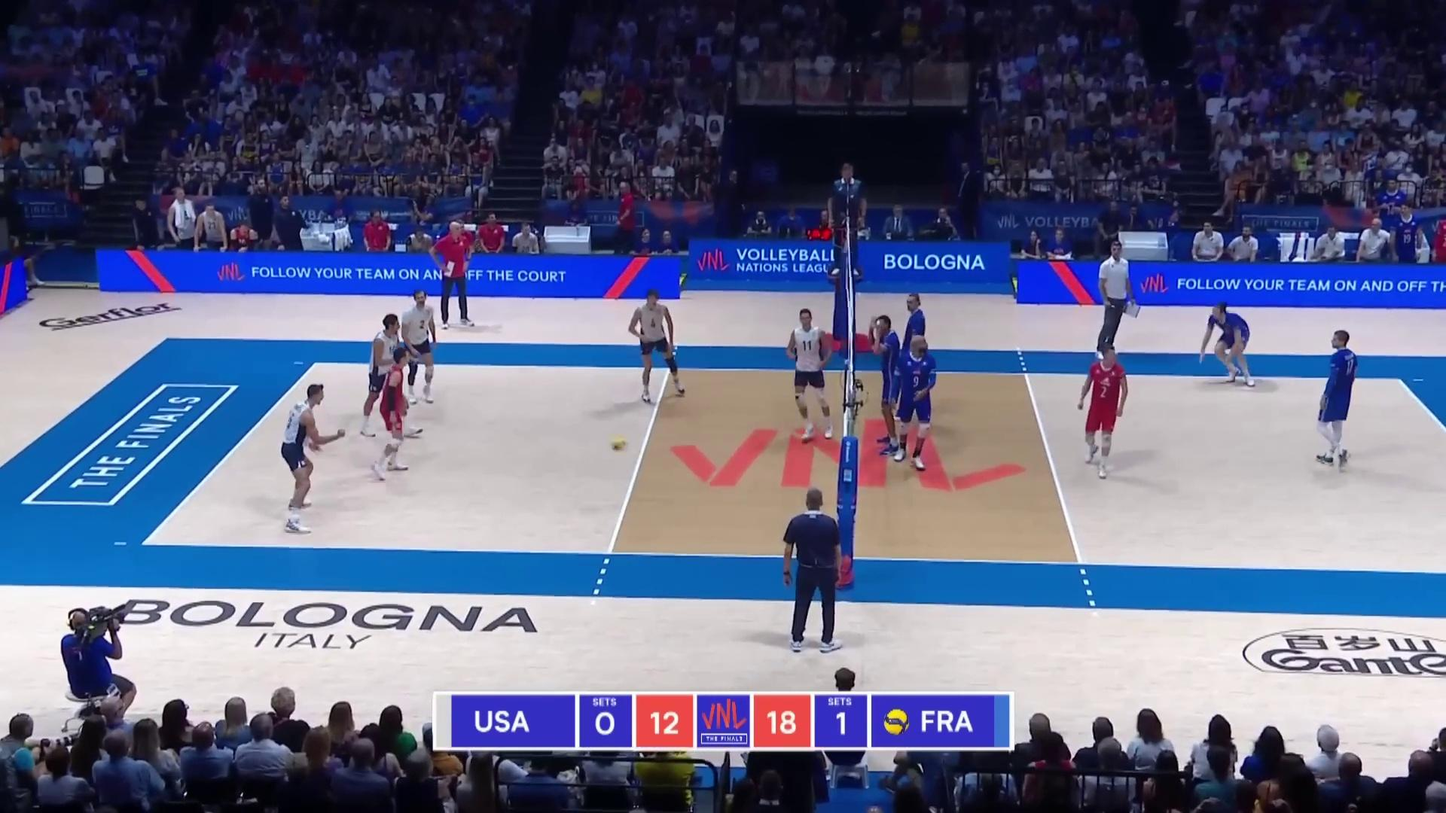player: (280, 383, 342, 532), (362, 315, 420, 438), (627, 290, 688, 404), (783, 309, 835, 441), (1078, 345, 1129, 479), (893, 335, 937, 473), (1315, 330, 1356, 473), (373, 348, 417, 478), (1196, 304, 1260, 389), (864, 312, 901, 454), (898, 294, 933, 423), (402, 292, 436, 406)
refree: (782, 489, 848, 652), (830, 166, 868, 278)
